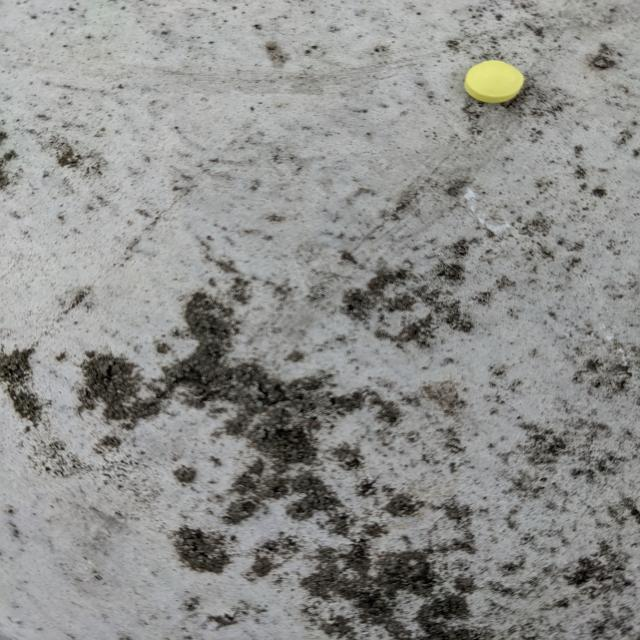non-organic waste: (462, 59, 525, 103)
